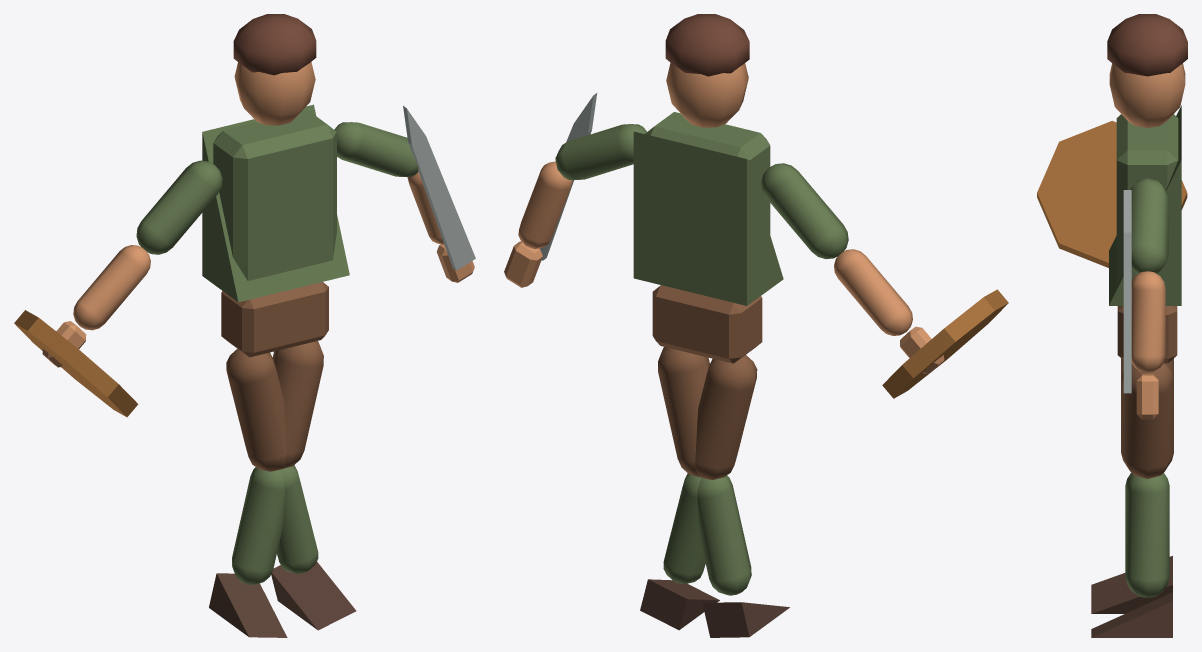
Rendered from adventurer.rustic.glb.
3 views of the same model, side by side, from view 1: azimuth 30°, elevation 25°; view 2: azimuth 150°, elevation 25°; view 3: azimuth 270°, elevation 25° (orthographic).
Parts seen in each view (by area): view 1: torso, pelvis, tunic, thigh.left, shin.right, upper-arm.left, hair, thigh.right, head, sword, shield, forearm.left (+5 smaller); view 2: tunic, pelvis, thigh.left, shin.right, upper-arm.left, hair, thigh.right, head, torso, shield, forearm.left, upper-arm.right (+7 smaller); view 3: shield, shin.left, torso, thigh.right, hair, head, upper-arm.right, forearm.right, tunic, foot.left, foot.right, sword (+2 smaller).
Boxes of the visible parts, x1,y1,x2,y2 form: torso: [213, 110, 336, 280]; pelvis: [221, 282, 328, 357]; tunic: [202, 104, 349, 302]; thigh.left: [226, 349, 286, 471]; shin.right: [232, 467, 284, 585]; upper-arm.left: [136, 160, 222, 254]; hair: [233, 14, 316, 75]; thigh.right: [272, 341, 323, 469]; head: [234, 62, 315, 125]; sword: [403, 106, 475, 270]; shield: [14, 310, 138, 417]; forearm.left: [73, 245, 150, 330]; tunic: [633, 131, 783, 305]; pelvis: [652, 285, 762, 363]; thigh.left: [695, 355, 757, 479]; shin.right: [697, 475, 751, 595]; upper-arm.left: [761, 163, 848, 259]; hair: [665, 14, 749, 76]; thigh.right: [658, 347, 709, 477]; head: [666, 62, 748, 127]; torso: [645, 112, 770, 234]; shield: [882, 289, 1008, 398]; forearm.left: [834, 249, 912, 335]; upper-arm.right: [555, 124, 646, 179]; shield: [1037, 121, 1187, 267]; shin.left: [1125, 474, 1169, 597]; torso: [1116, 114, 1178, 283]; thigh.right: [1121, 363, 1173, 478]; hair: [1107, 14, 1187, 76]; head: [1109, 63, 1185, 127]; upper-arm.right: [1130, 178, 1168, 273]; forearm.right: [1131, 271, 1165, 372]; tunic: [1109, 105, 1181, 305]; foot.left: [1091, 592, 1172, 637]; foot.right: [1091, 556, 1172, 613]; sword: [1123, 190, 1131, 393].
Size of the model in its own units: 2.45 by 3.01 by 0.6826.
